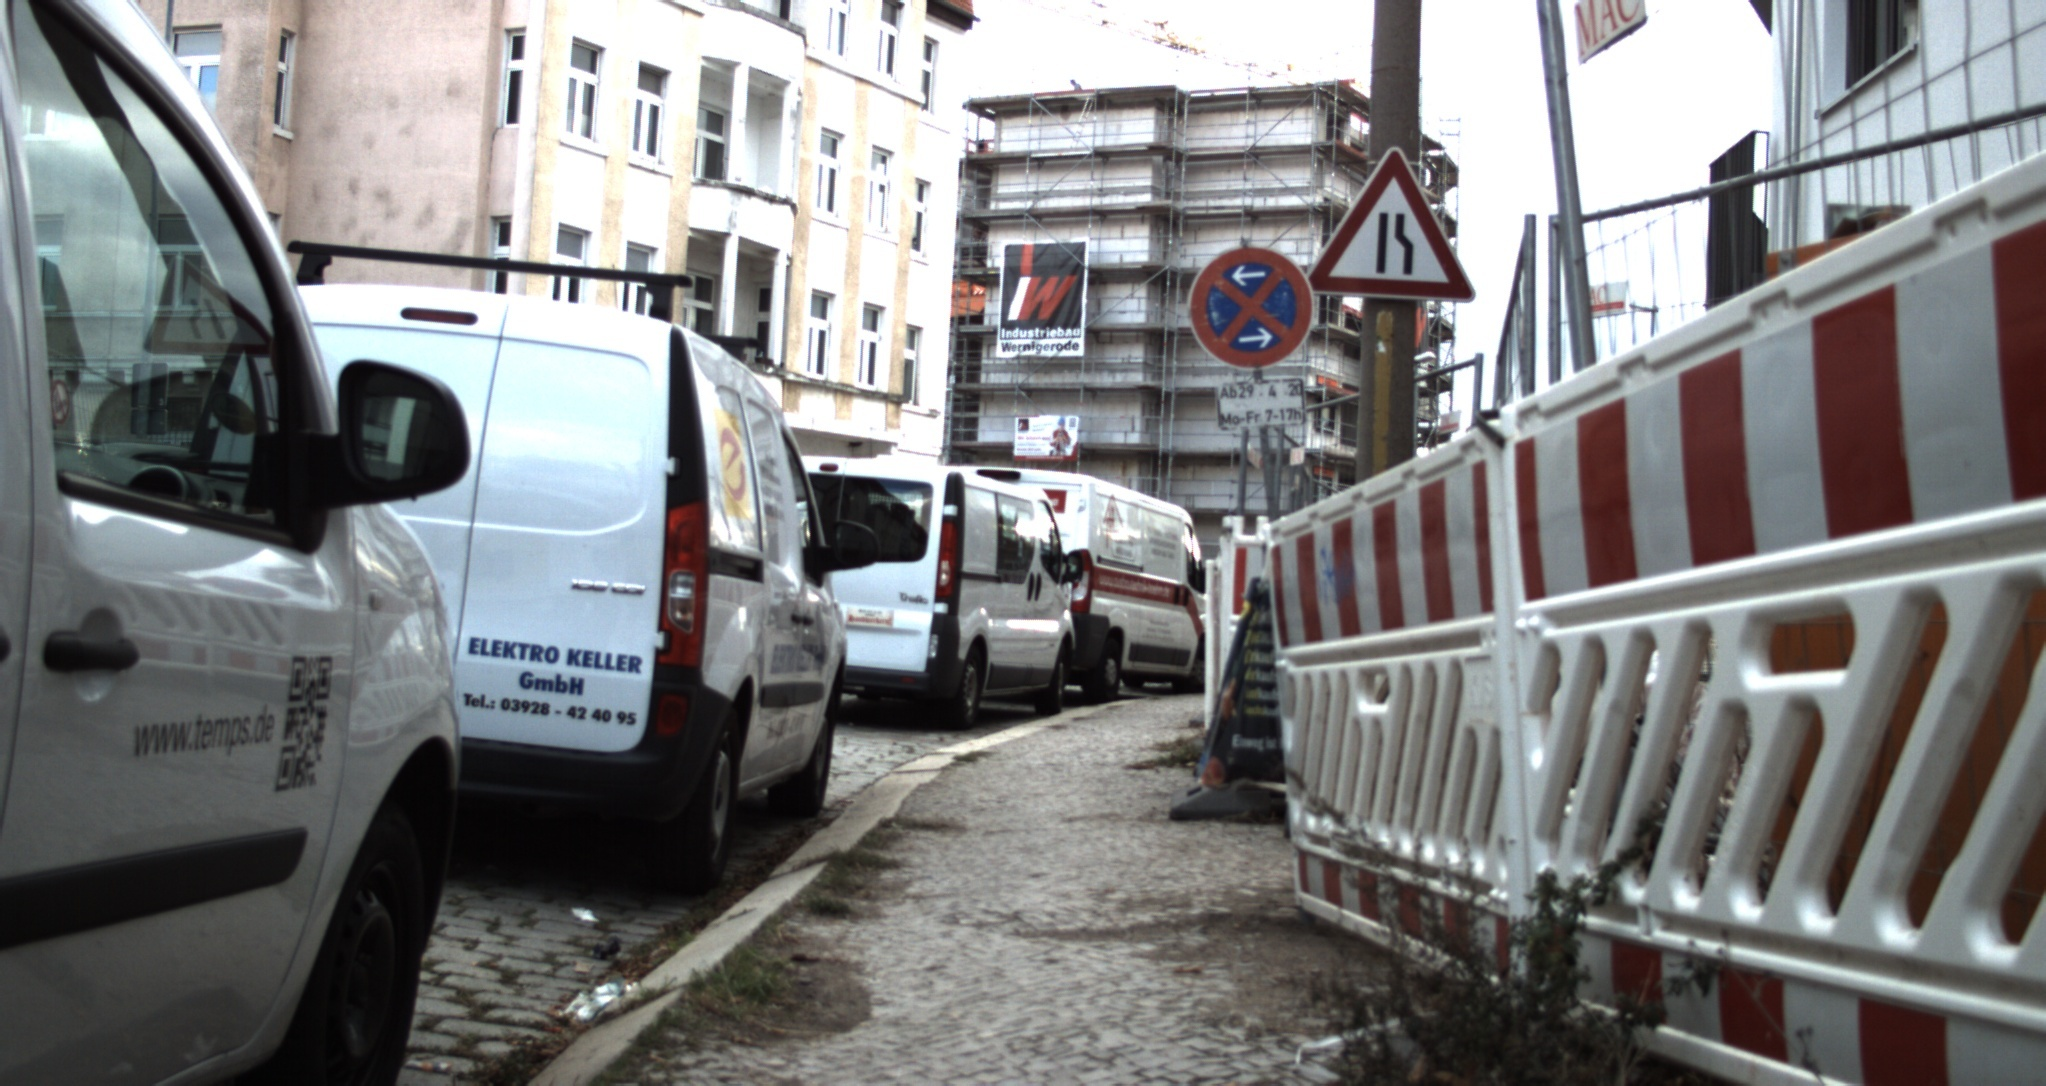trafficsign_miscellaneous traffic signs: (1189, 246, 1317, 367)
trafficsign_sonstiges Gefahrenzeichen: (1306, 146, 1476, 303)
transporter: (0, 0, 470, 1085), (284, 238, 880, 893), (800, 454, 1084, 728), (954, 465, 1204, 705)
